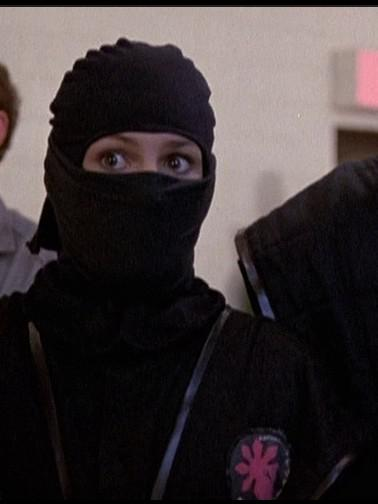OK: (75, 117, 206, 267)
